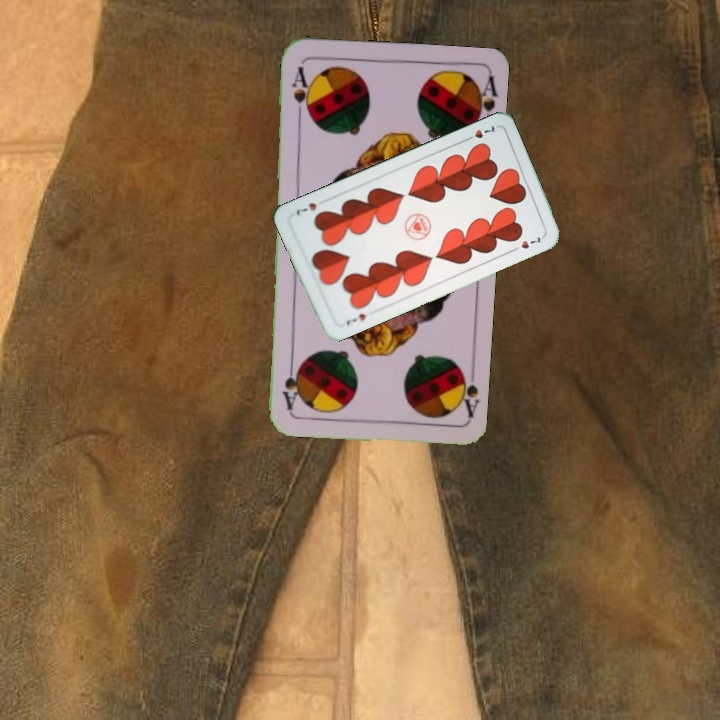H7: (460, 121, 498, 144), (342, 309, 369, 329)
SA: (452, 361, 480, 420), (288, 62, 313, 121)
